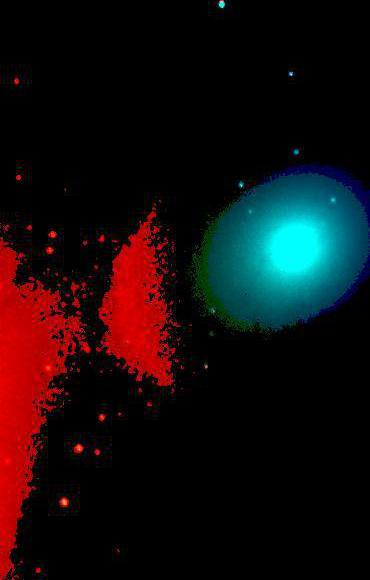star: (105, 401, 135, 431)
